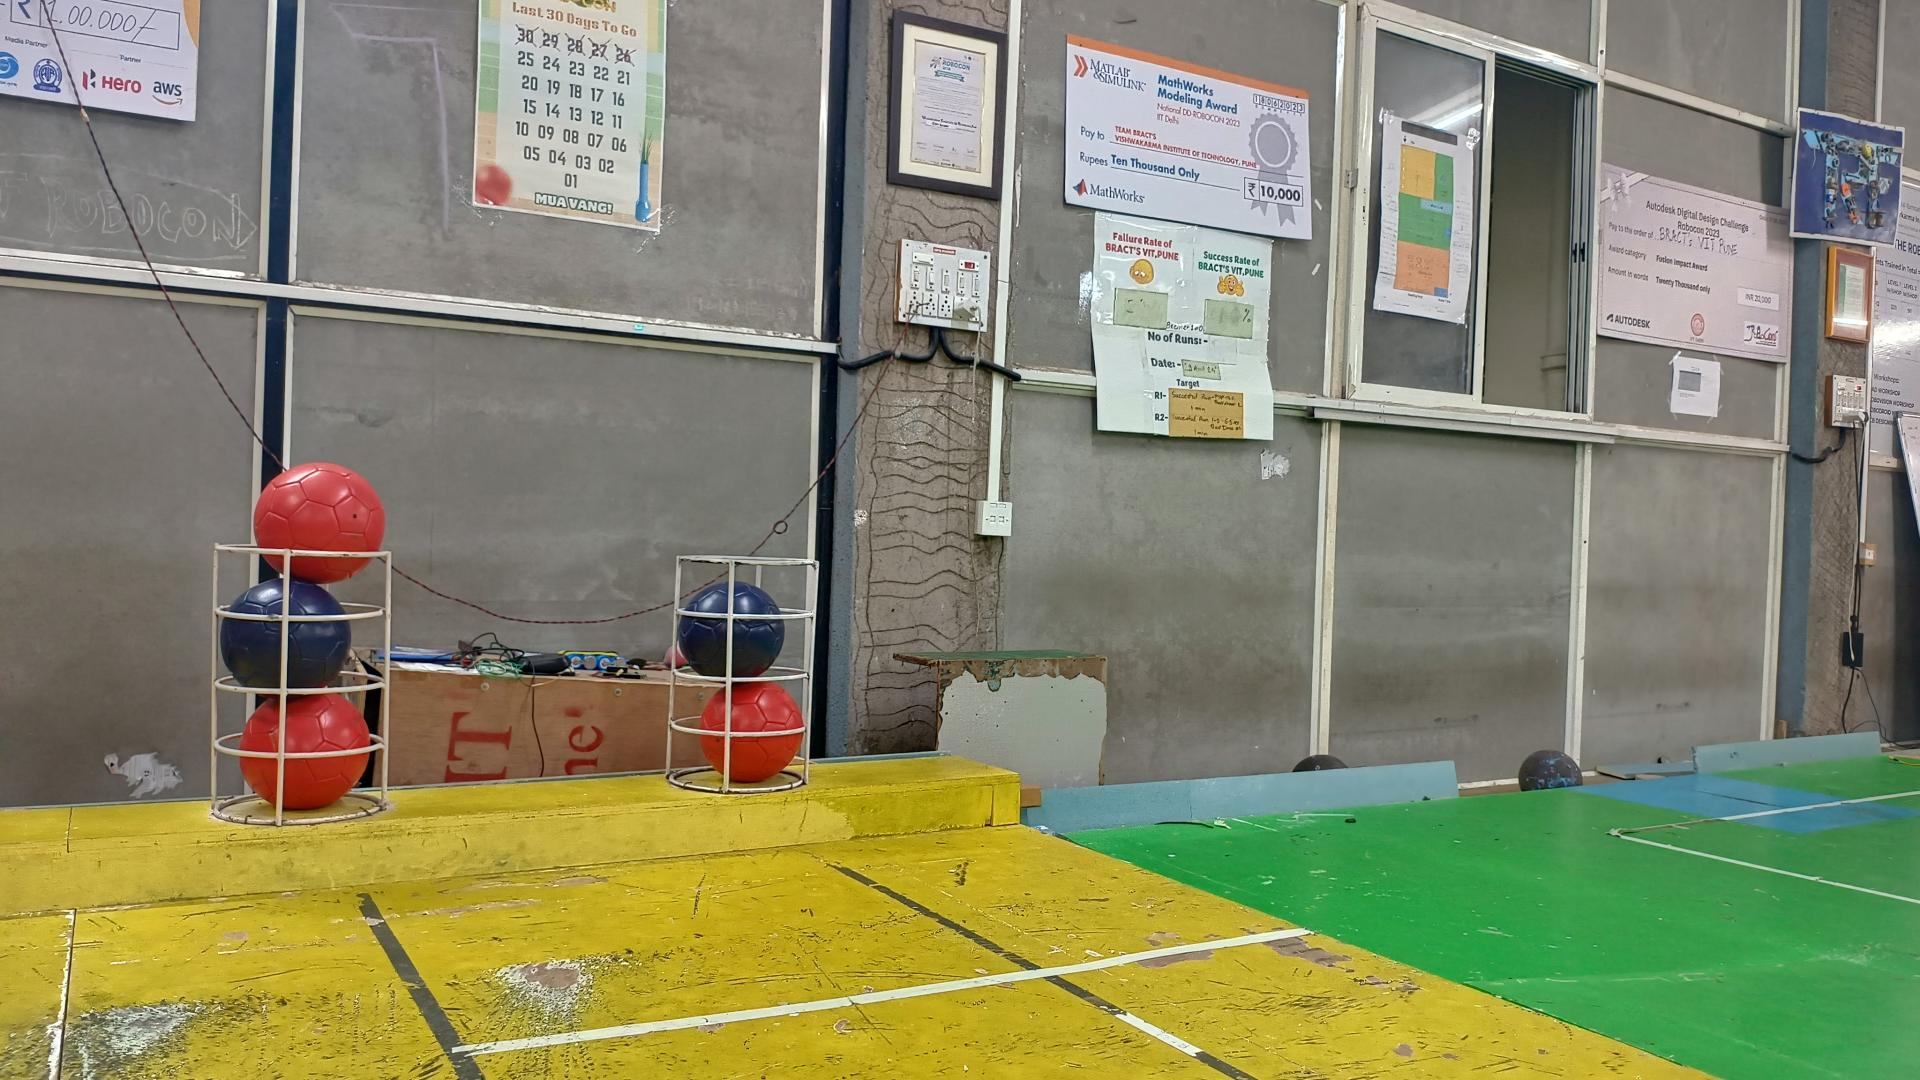dhoka: (218, 578, 352, 690), (679, 582, 783, 679)
laale: (255, 462, 386, 585), (240, 694, 372, 810), (698, 679, 803, 783)
